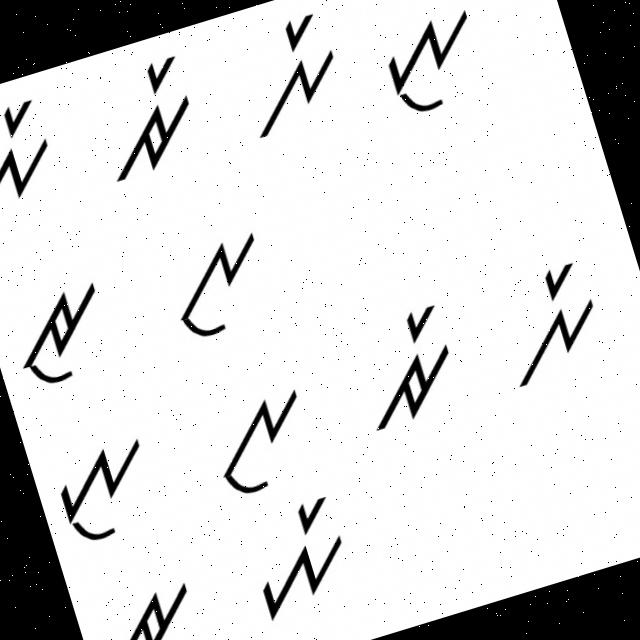lar: (484, 247, 618, 398), (226, 4, 356, 146)
law: (148, 221, 288, 359), (193, 372, 326, 508)
rar: (82, 48, 214, 186), (342, 296, 472, 433)
raw: (0, 268, 126, 396), (87, 568, 216, 639)
yar: (229, 485, 368, 629), (0, 87, 72, 228)
yaw: (40, 422, 173, 562), (363, 0, 498, 130)
